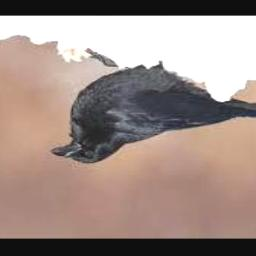Crow: (49, 45, 256, 164)
